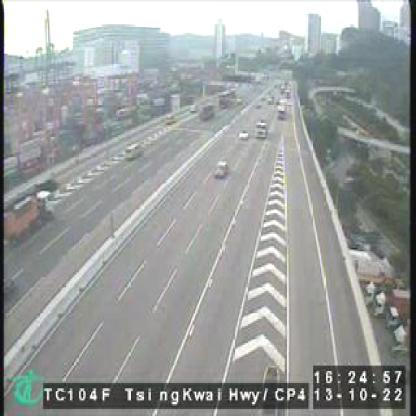Car: (214, 158, 229, 178), (254, 118, 268, 139), (126, 143, 142, 161), (238, 129, 250, 143)
Truck: (3, 189, 56, 250)
